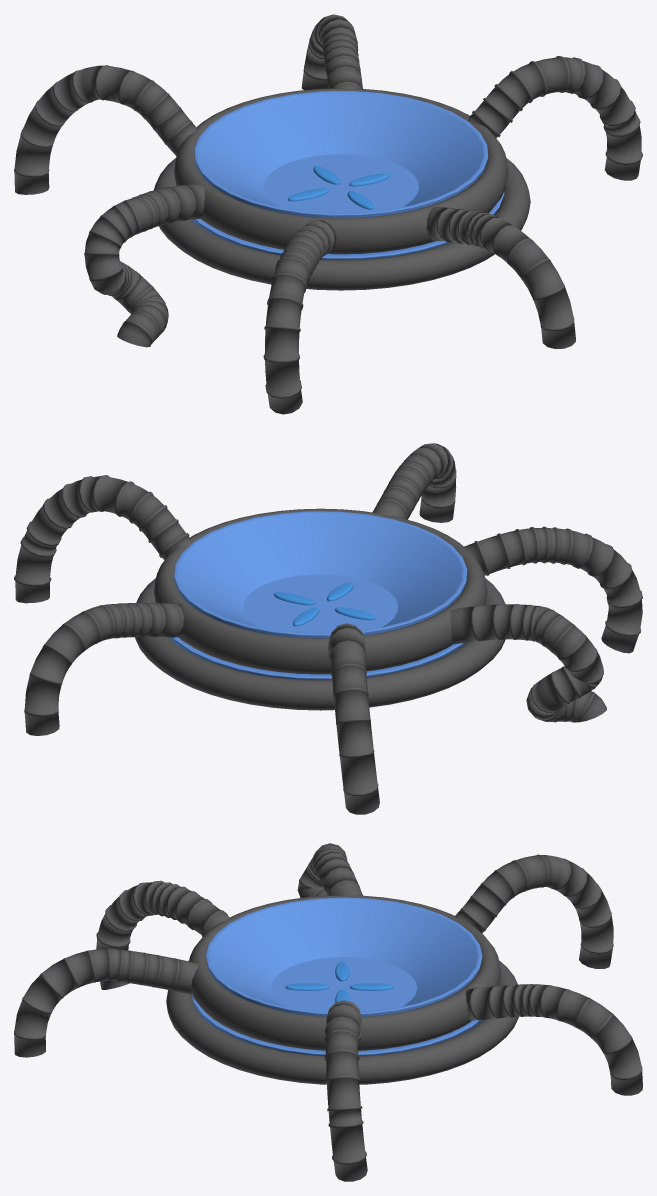
File: hologram.fbx
3 renders of one model, top to bottom at view 1: azimuth 30°, elevation 25°; view 2: azimuth 150°, elevation 25°; view 3: azimuth 270°, elevation 25°, orthographic. The views are drawn at different scales.
Parts seen in each view (by area): view 1: Cylinder.009, Torus.003, Torus.002, BezierCurve.011, BezierCurve.010, BezierCurve.008, BezierCurve.006, BezierCurve.007, BezierCurve.009, Cylinder.010; view 2: Cylinder.009, Torus.003, Torus.002, BezierCurve.010, BezierCurve.008, BezierCurve.007, BezierCurve.009, BezierCurve.011, BezierCurve.006, Cylinder.010; view 3: Cylinder.009, Torus.003, Torus.002, BezierCurve.006, BezierCurve.011, BezierCurve.009, BezierCurve.008, BezierCurve.007, BezierCurve.010, Cylinder.010.
Part boxes in pixels (x1,y1,x2,y2): Cylinder.009: (194, 90, 488, 218); Torus.003: (174, 88, 508, 254); Torus.002: (154, 157, 530, 290); BezierCurve.011: (14, 65, 196, 194); BezierCurve.010: (84, 184, 204, 347); BezierCurve.008: (468, 56, 642, 180); BezierCurve.006: (426, 207, 575, 348); BezierCurve.007: (263, 219, 336, 414); BezierCurve.009: (301, 14, 362, 90); Cylinder.010: (192, 192, 504, 259); Cylinder.009: (174, 511, 467, 638); Torus.003: (153, 508, 487, 674); Torus.002: (135, 578, 505, 710); BezierCurve.010: (450, 604, 606, 722); BezierCurve.008: (14, 475, 191, 603); BezierCurve.007: (463, 526, 642, 653); BezierCurve.009: (24, 602, 185, 735); BezierCurve.011: (328, 623, 379, 814); BezierCurve.006: (372, 443, 456, 522); Cylinder.010: (169, 637, 466, 680); Cylinder.009: (205, 897, 482, 1016); Torus.003: (189, 895, 501, 1050); Torus.002: (166, 960, 518, 1084); BezierCurve.006: (14, 948, 198, 1057); BezierCurve.011: (455, 854, 613, 968); BezierCurve.009: (465, 984, 642, 1095); BezierCurve.008: (324, 1000, 367, 1181); BezierCurve.007: (96, 880, 230, 989); BezierCurve.010: (297, 843, 362, 897); Cylinder.010: (191, 994, 483, 1056).
Bounding box in the file's own units: 152 × 42.48 × 155.
